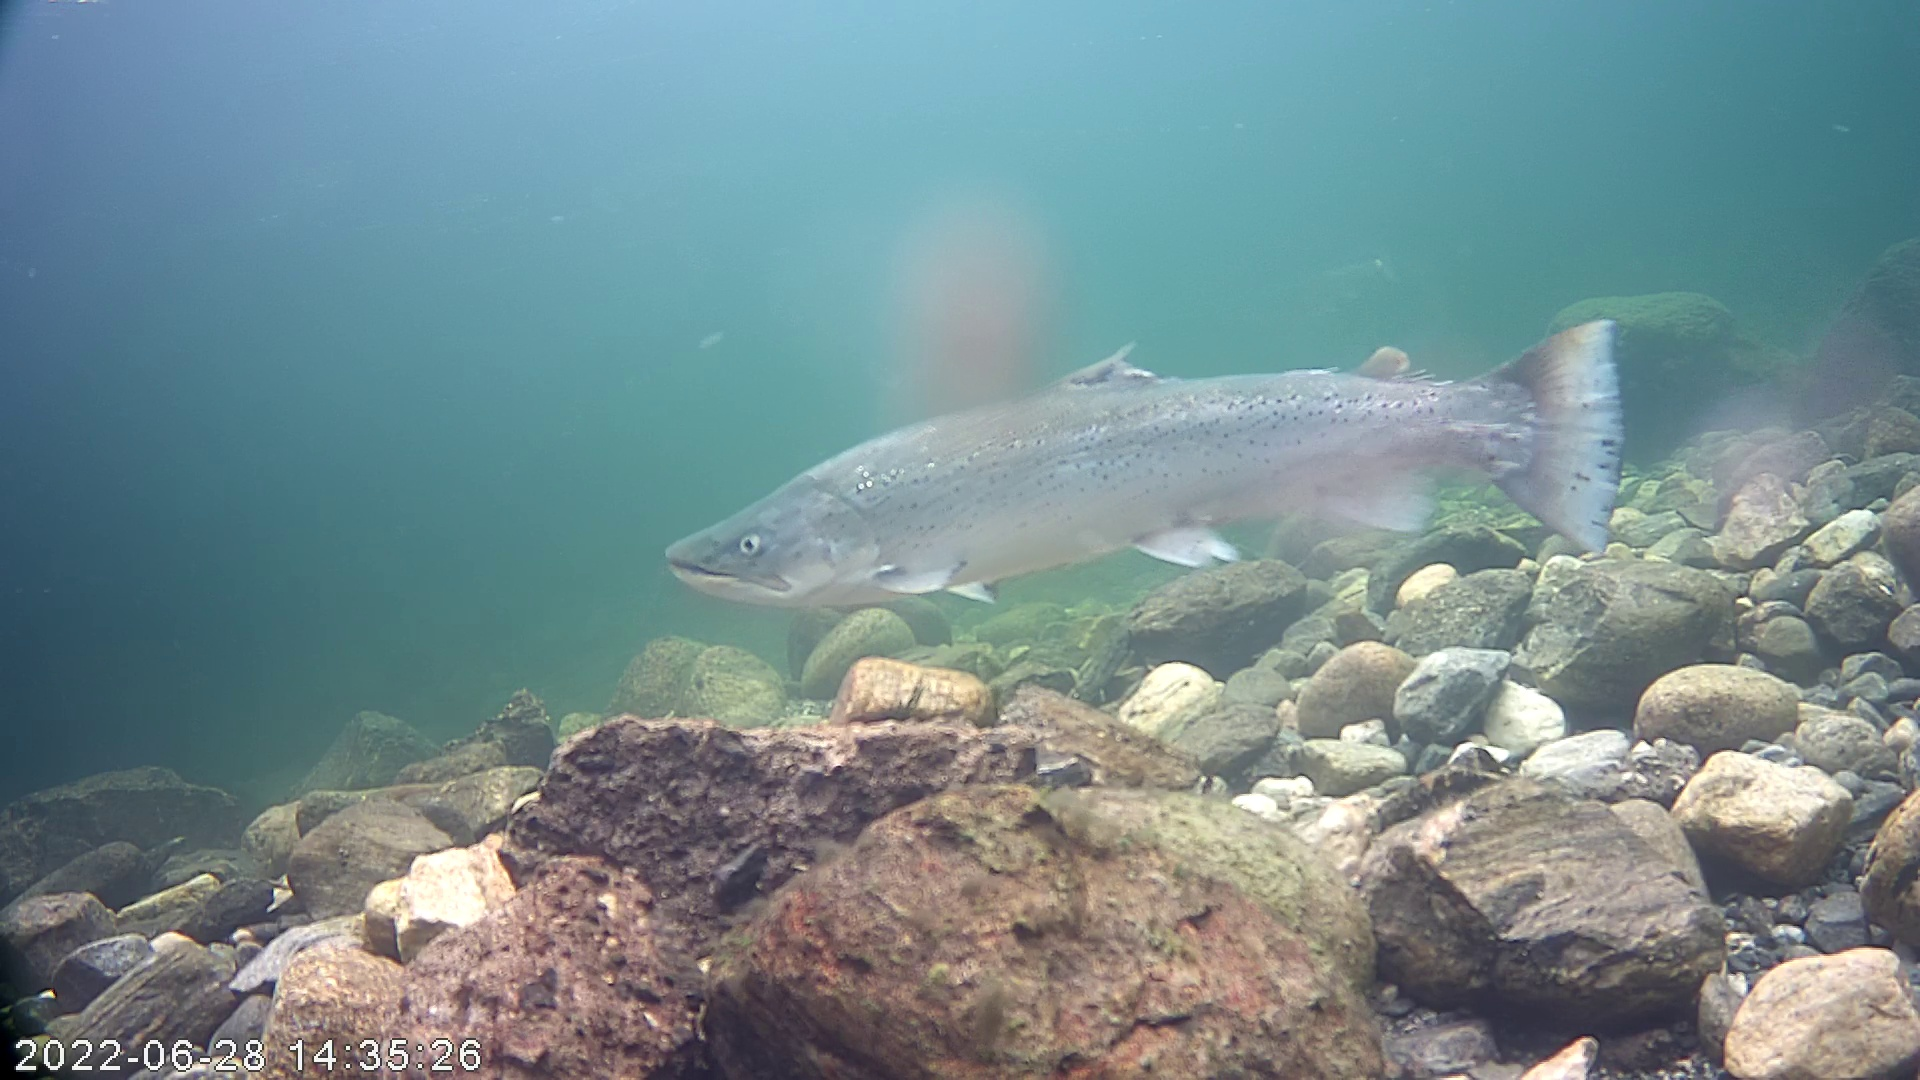salmon: (671, 219, 1662, 641)
